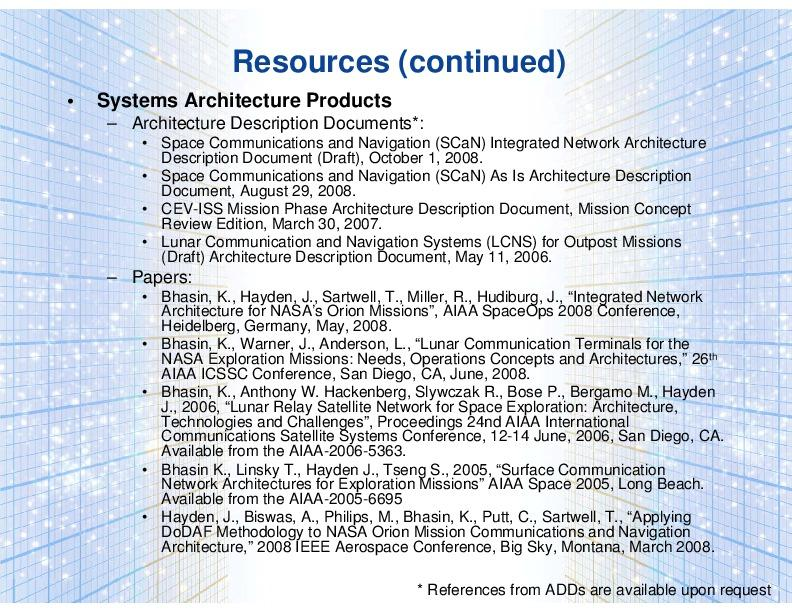paragraph: (82, 77, 774, 564)
title: (225, 36, 576, 85)
